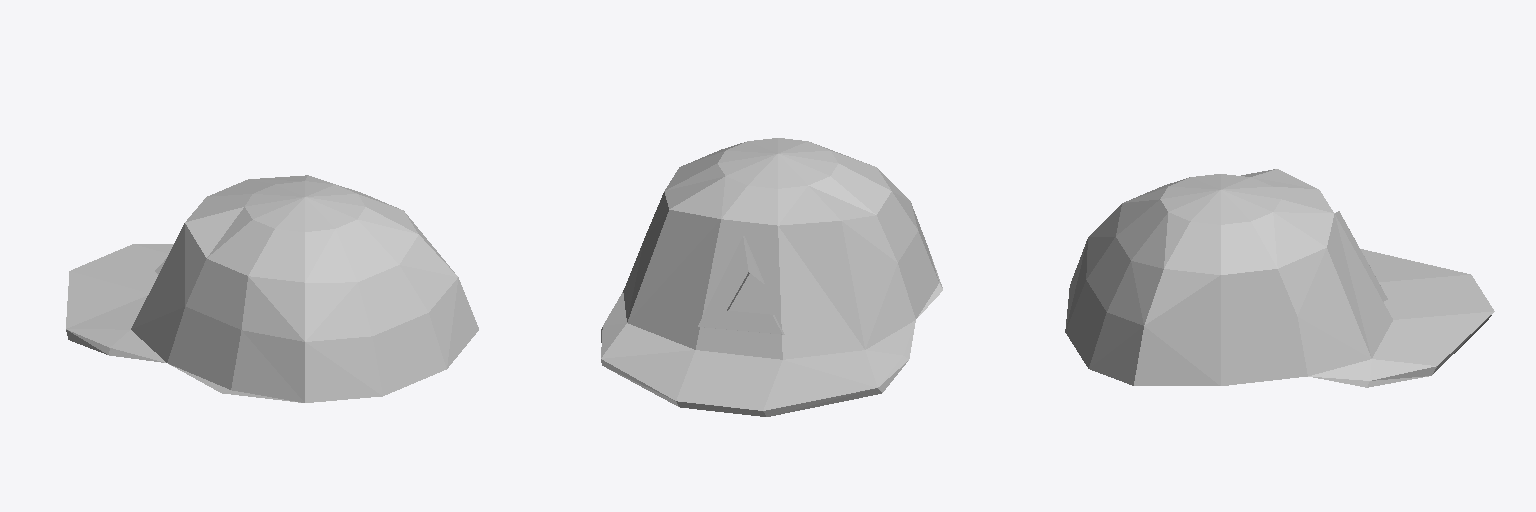
File: Hat.obj
3 renders of one model, left to right at view 1: azimuth 30°, elevation 25°; view 2: azimuth 150°, elevation 25°; view 3: azimuth 270°, elevation 25°, orthographic.
Size of the model in its own units: 0.4628 by 0.2223 by 0.5702.